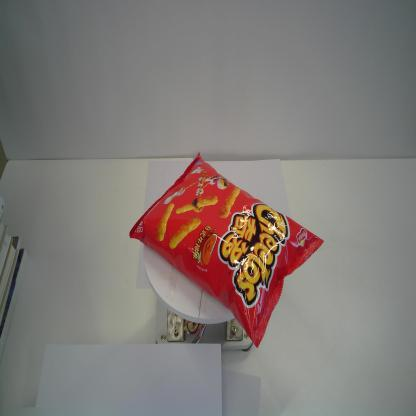Puffed Food: (129, 152, 324, 348)
